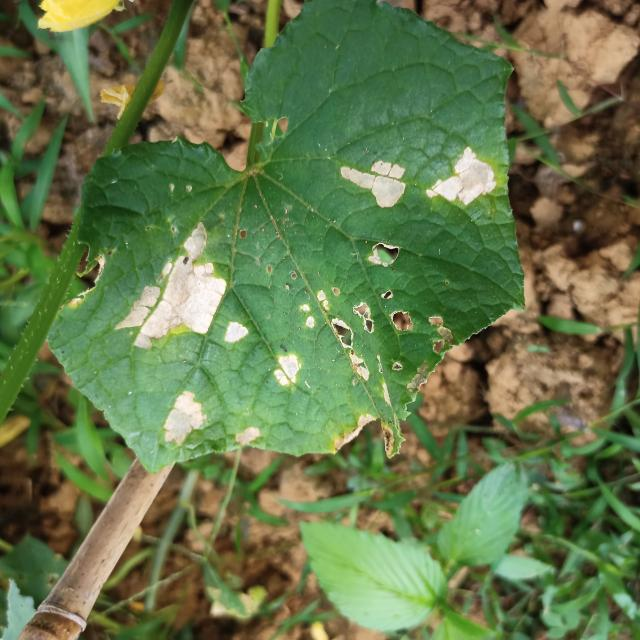disease_cucumber: (118, 207, 303, 448), (308, 233, 448, 387), (323, 142, 500, 226)
